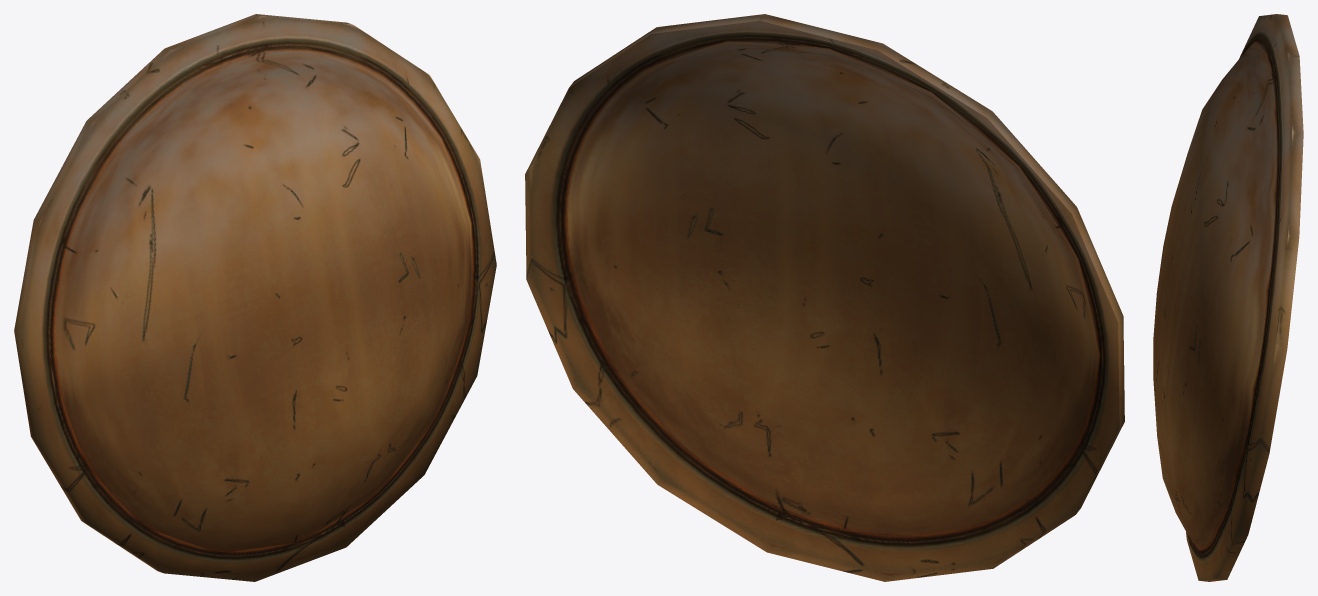
The model's file is pelte_01_front.dae.
The picture shows the model from 3 angles, left to right: view 1: azimuth 30°, elevation 25°; view 2: azimuth 150°, elevation 25°; view 3: azimuth 270°, elevation 25°; orthographic projection. The views are drawn at different scales.
Visible parts, largest first — view 1: Aspis_Front_Sml; view 2: Aspis_Front_Sml; view 3: Aspis_Front_Sml.
Part boxes in pixels (x1,y1,x2,y2): Aspis_Front_Sml: [14, 14, 496, 581]; Aspis_Front_Sml: [525, 14, 1124, 581]; Aspis_Front_Sml: [1153, 14, 1303, 581].
Size of the model in its own units: 1.4 by 0.3679 by 1.39.
